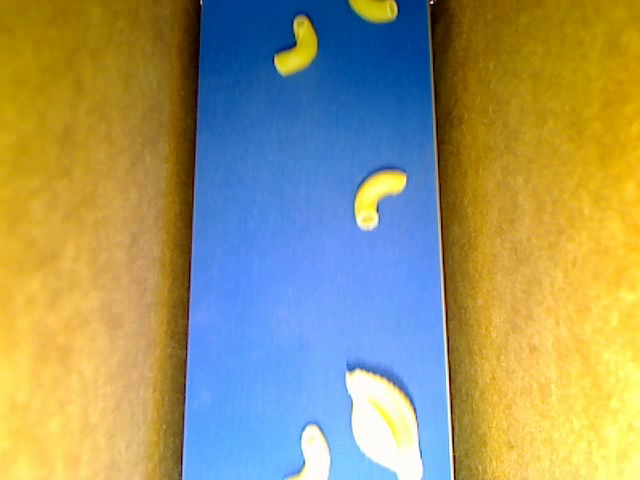elbow: (354, 169, 408, 230), (283, 423, 332, 479), (273, 15, 318, 75), (348, 1, 397, 24)
shell: (345, 368, 422, 479)
